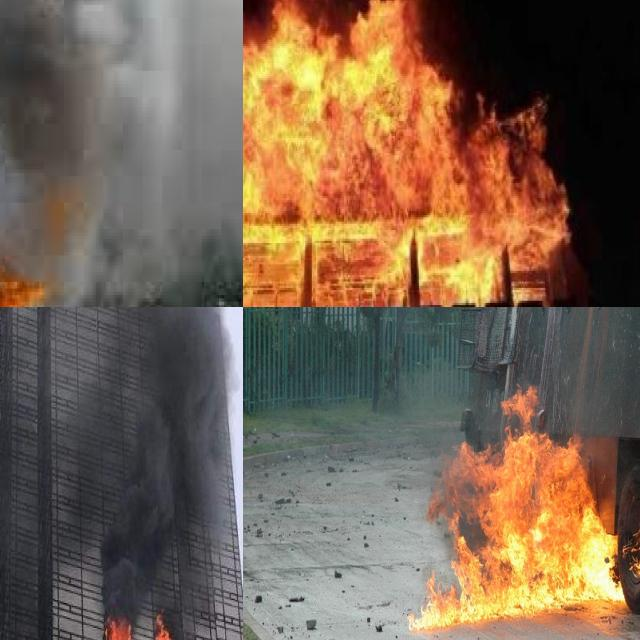fire: (243, 0, 572, 307), (406, 386, 635, 635), (103, 604, 133, 640), (152, 609, 179, 640)
smoke: (0, 0, 243, 307), (55, 307, 230, 600)
